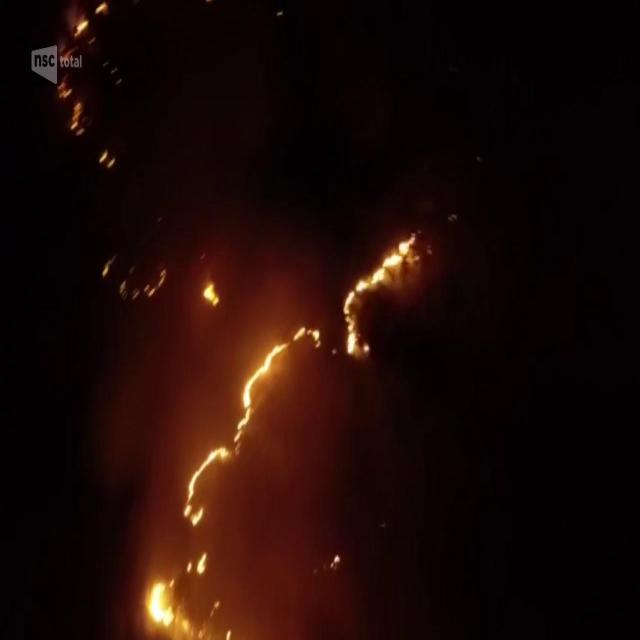Fire: (234, 328, 320, 444), (338, 239, 415, 351), (180, 450, 229, 522), (139, 583, 176, 628), (204, 286, 218, 308), (76, 21, 88, 38)
